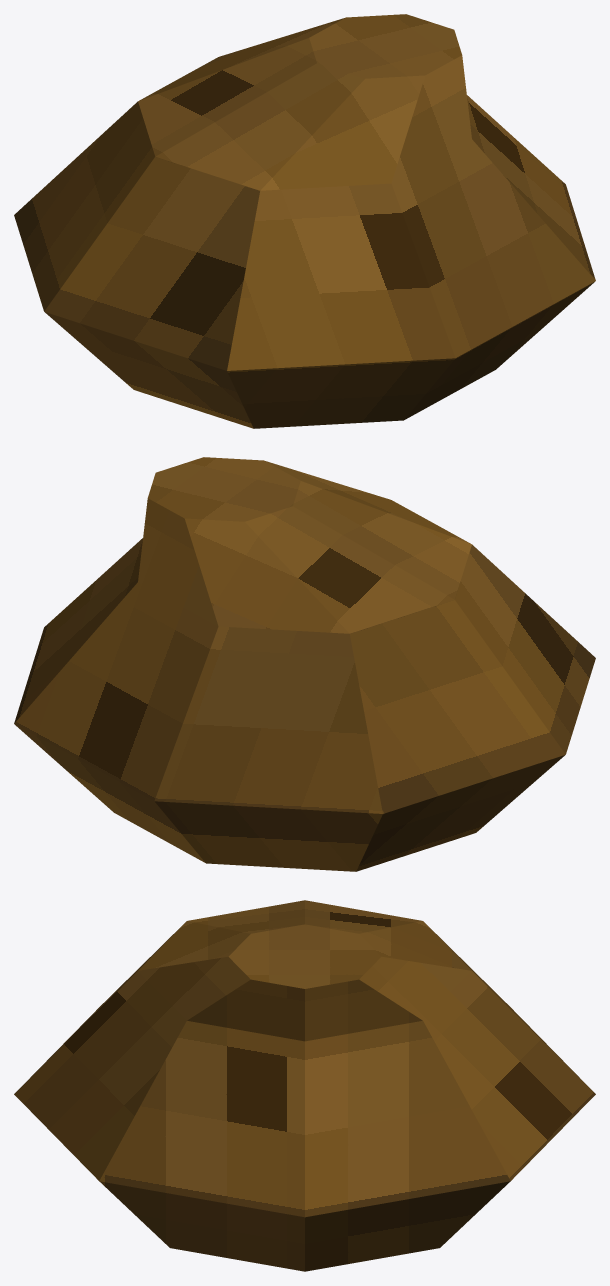
File: ChocolatechipCookie_Dough.fbx
3 views of the same model, one above another, from view 1: azimuth 30°, elevation 25°; view 2: azimuth 150°, elevation 25°; view 3: azimuth 270°, elevation 25° (orthographic). The views are drawn at different scales.
Visible parts, largest first — view 1: ChocolatechipCookie_Dough; view 2: ChocolatechipCookie_Dough; view 3: ChocolatechipCookie_Dough.
Boxes of the visible parts, x1,y1,x2,y2 form: ChocolatechipCookie_Dough: (14,14,595,428); ChocolatechipCookie_Dough: (14,457,595,871); ChocolatechipCookie_Dough: (14,900,595,1271).
Size of the model in its own units: 20.29 by 10.48 by 20.29.
1 material, 1 textured.
